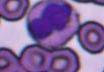N: (26, 0, 76, 45)
